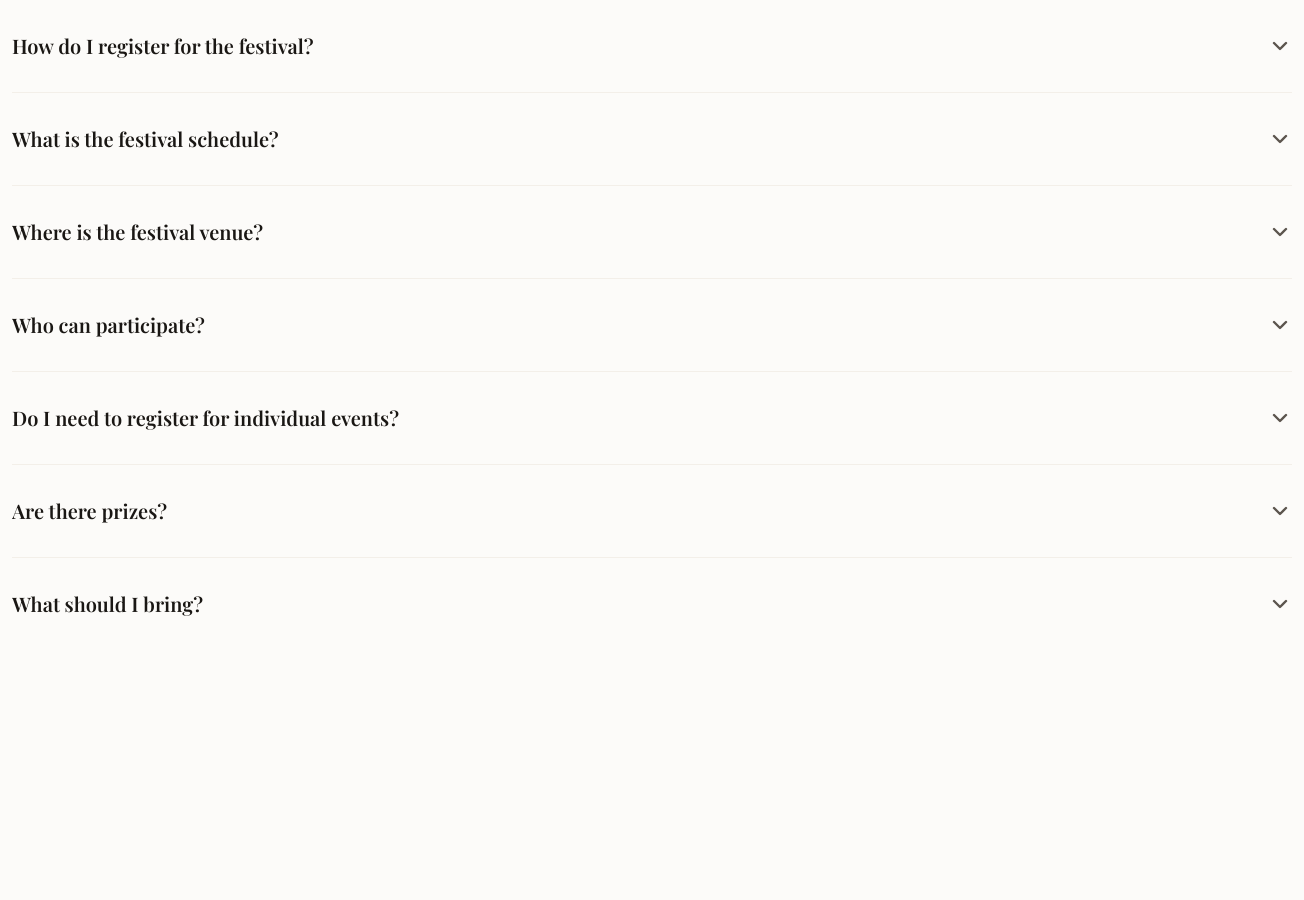
Test: FaqAccordion › Click activation › clicking a question expands that answer (aria-expanded becomes true)
Click the button "How do I register for the festival?": {"x": 163, "y": 46} [12,16,1292,76]
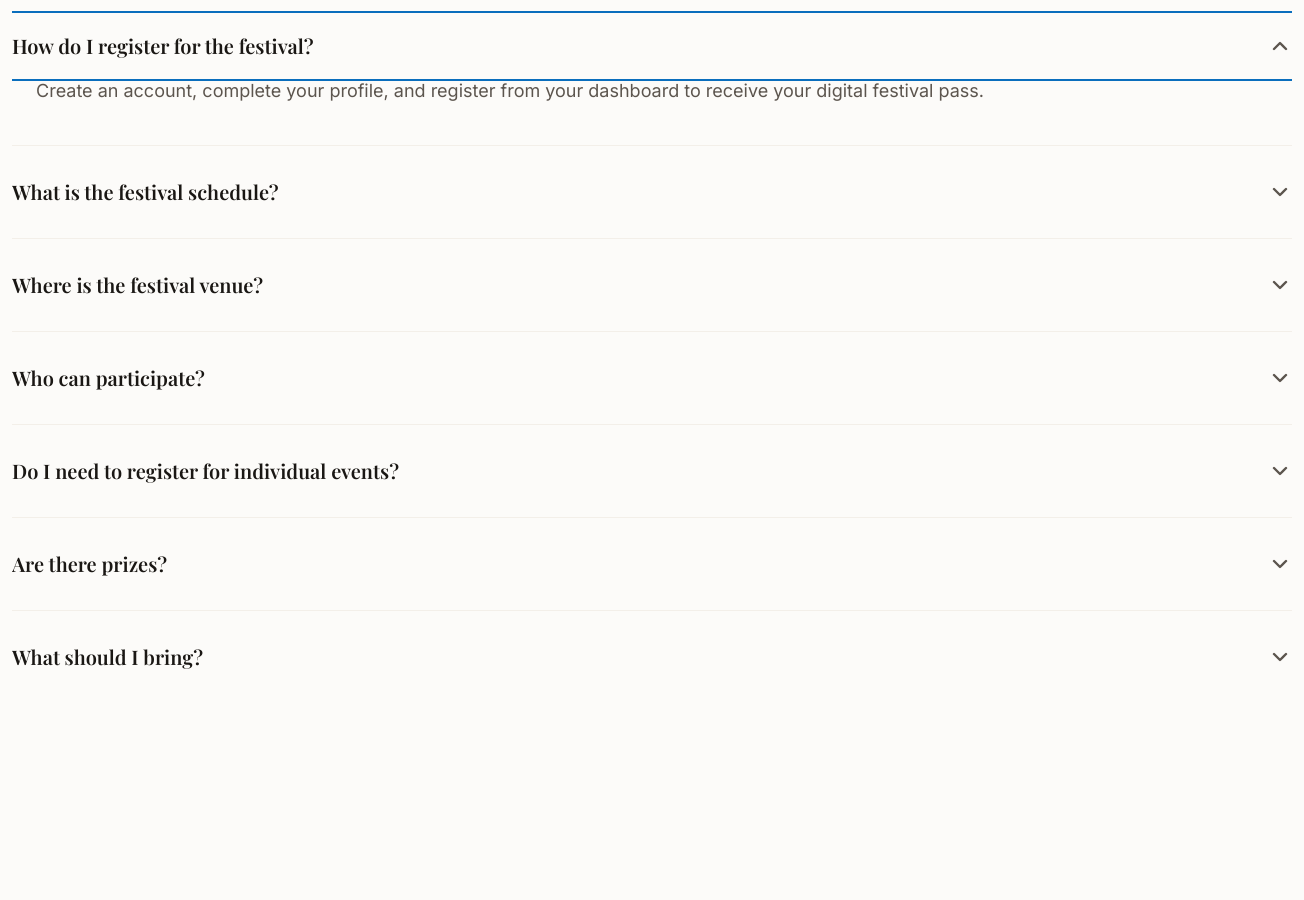
Check: the button "How do I register for the festival?" is expanded, box [12,16,1292,76]
